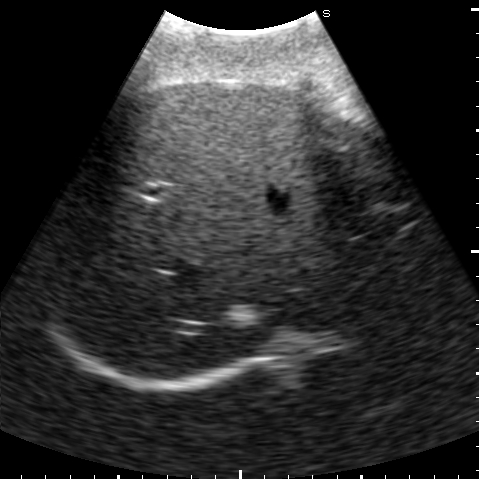S5: (120, 81, 334, 189)
S7: (49, 166, 174, 334)
S8: (108, 166, 376, 379)
Tumor: (224, 304, 259, 327)
